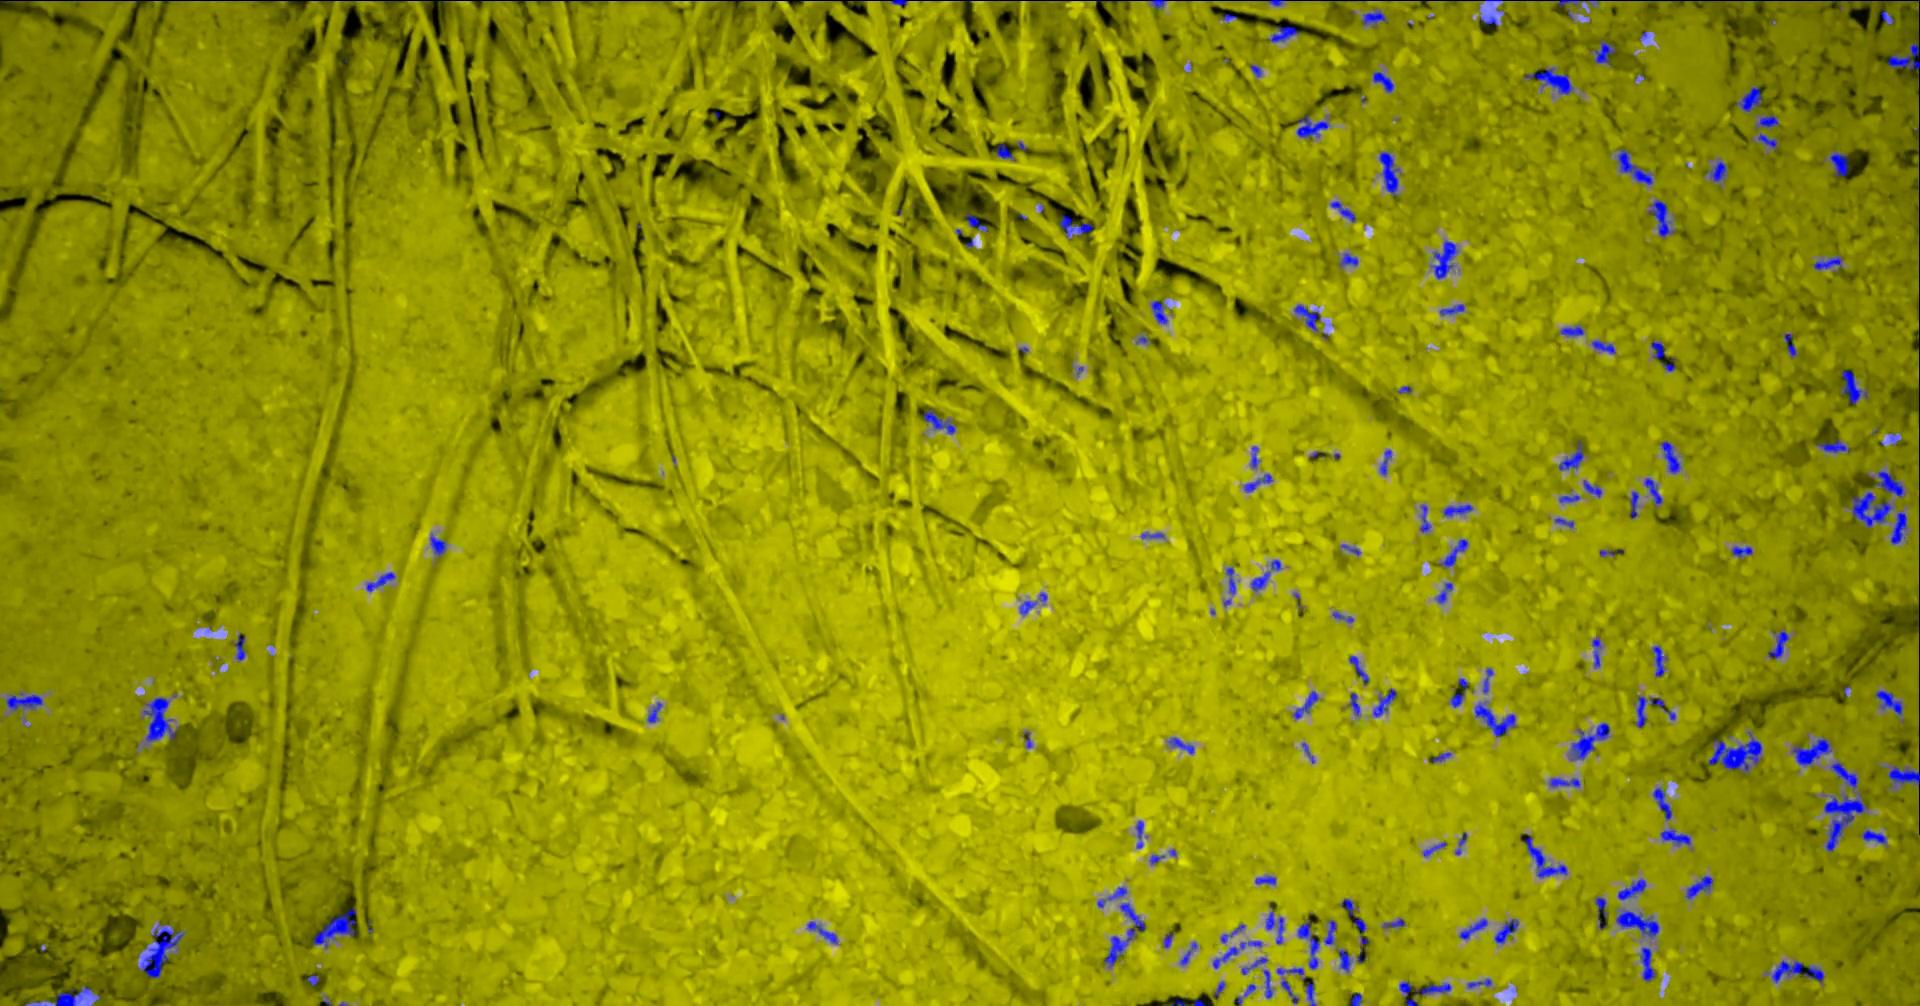ant: (1103, 902, 1145, 967), (1823, 793, 1868, 851), (138, 923, 184, 978), (1707, 730, 1761, 774), (1520, 833, 1567, 876), (312, 908, 356, 948), (1570, 721, 1609, 760), (1850, 492, 1892, 527), (143, 697, 178, 741), (1887, 42, 1919, 88), (1474, 701, 1515, 735), (1211, 940, 1261, 968), (1523, 67, 1572, 94), (1617, 149, 1652, 184), (1398, 981, 1450, 1005), (1636, 695, 1675, 727), (1615, 909, 1658, 937), (1771, 959, 1823, 982), (1790, 737, 1831, 766), (1297, 920, 1319, 968), (1647, 199, 1675, 238), (1431, 240, 1457, 279), (1378, 151, 1399, 196), (1840, 370, 1867, 404), (50, 986, 93, 1005), (1437, 539, 1467, 567), (923, 408, 955, 433), (1059, 213, 1093, 236), (1558, 439, 1583, 470), (1873, 470, 1903, 495), (1297, 116, 1330, 138), (1293, 304, 1321, 330), (1874, 690, 1902, 716), (1830, 762, 1857, 790), (1650, 340, 1674, 371), (1265, 904, 1284, 942), (1291, 691, 1318, 718), (1371, 688, 1396, 716), (806, 921, 837, 942), (5, 692, 42, 710), (1660, 441, 1680, 473), (1887, 765, 1919, 785), (1735, 86, 1761, 111), (1685, 875, 1712, 899), (1617, 878, 1646, 899), (1652, 788, 1671, 821), (1097, 887, 1126, 907), (364, 572, 395, 591), (1330, 199, 1356, 221), (1459, 918, 1487, 939), (1890, 512, 1907, 544), (1243, 473, 1272, 492), (1495, 918, 1517, 942), (1594, 39, 1615, 65), (1768, 631, 1788, 658), (1349, 655, 1368, 683), (1450, 678, 1468, 708), (1639, 948, 1655, 981), (1267, 25, 1299, 41), (1643, 478, 1662, 503), (1241, 956, 1267, 974), (1652, 645, 1667, 676), (1660, 829, 1690, 845), (1594, 895, 1608, 929), (1829, 152, 1848, 177), (1220, 923, 1244, 942), (1280, 979, 1298, 1005), (1812, 255, 1841, 271), (1371, 71, 1393, 91), (1168, 737, 1192, 754), (1816, 439, 1849, 452), (1705, 160, 1726, 180), (1276, 967, 1305, 981), (1178, 941, 1196, 964), (1250, 570, 1270, 589), (965, 213, 987, 231), (1150, 300, 1167, 323), (1361, 10, 1385, 25), (429, 535, 446, 556), (1435, 582, 1451, 603), (1356, 935, 1369, 962), (1862, 829, 1886, 843), (1443, 504, 1472, 516), (1423, 841, 1445, 856), (1418, 504, 1430, 532), (1757, 133, 1777, 150), (996, 144, 1015, 160), (1557, 0, 1597, 8), (1549, 777, 1580, 788), (1591, 340, 1615, 353), (1323, 920, 1336, 944), (234, 634, 245, 661), (1583, 480, 1601, 497), (1439, 304, 1464, 315), (1783, 333, 1796, 356), (1379, 448, 1390, 474), (1225, 567, 1236, 594), (648, 701, 662, 721), (1559, 325, 1583, 337), (1756, 114, 1778, 127), (1337, 949, 1350, 970), (1018, 600, 1036, 615), (1591, 636, 1600, 667), (1338, 251, 1357, 265), (1263, 969, 1272, 998), (1482, 667, 1492, 692), (1340, 898, 1354, 916), (1467, 978, 1491, 988), (1305, 981, 1316, 1005), (1629, 492, 1638, 518), (1731, 546, 1751, 558), (1332, 611, 1352, 622), (1349, 692, 1359, 715), (1430, 752, 1451, 762), (1135, 821, 1143, 848), (1382, 918, 1404, 927), (1879, 10, 1893, 24), (1250, 446, 1258, 467), (1255, 875, 1275, 884), (1352, 918, 1365, 931), (1558, 494, 1578, 502), (1859, 0, 1919, 3), (1350, 992, 1361, 1005), (1149, 0, 1164, 9)
